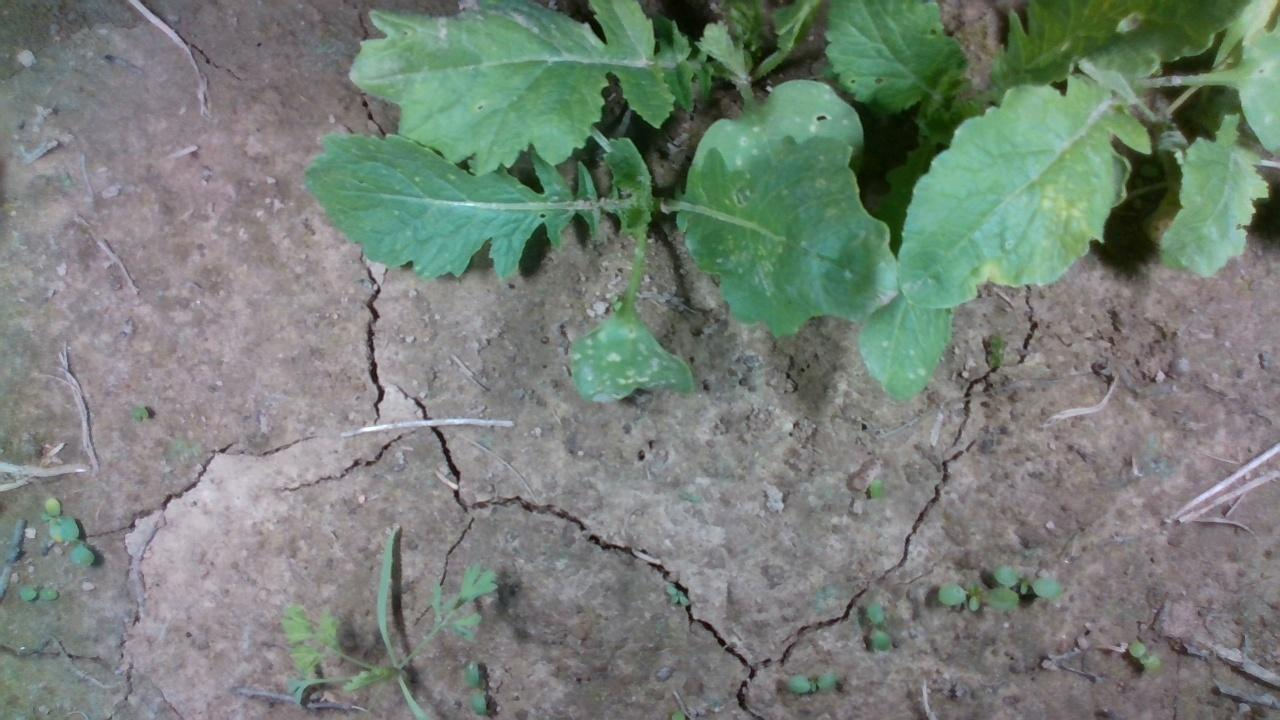weed: (780, 665, 834, 693), (864, 599, 892, 651), (1127, 638, 1161, 672), (17, 585, 58, 601)
